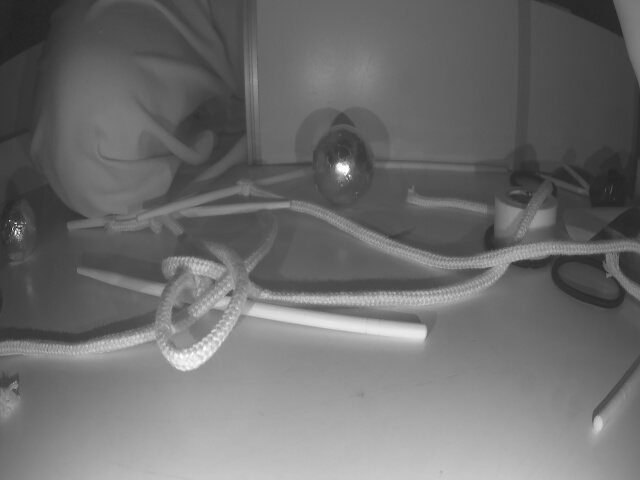Dead: (586, 168, 625, 214)
Live: (310, 123, 370, 202), (0, 202, 34, 253)
Point: (0, 126, 39, 201)
